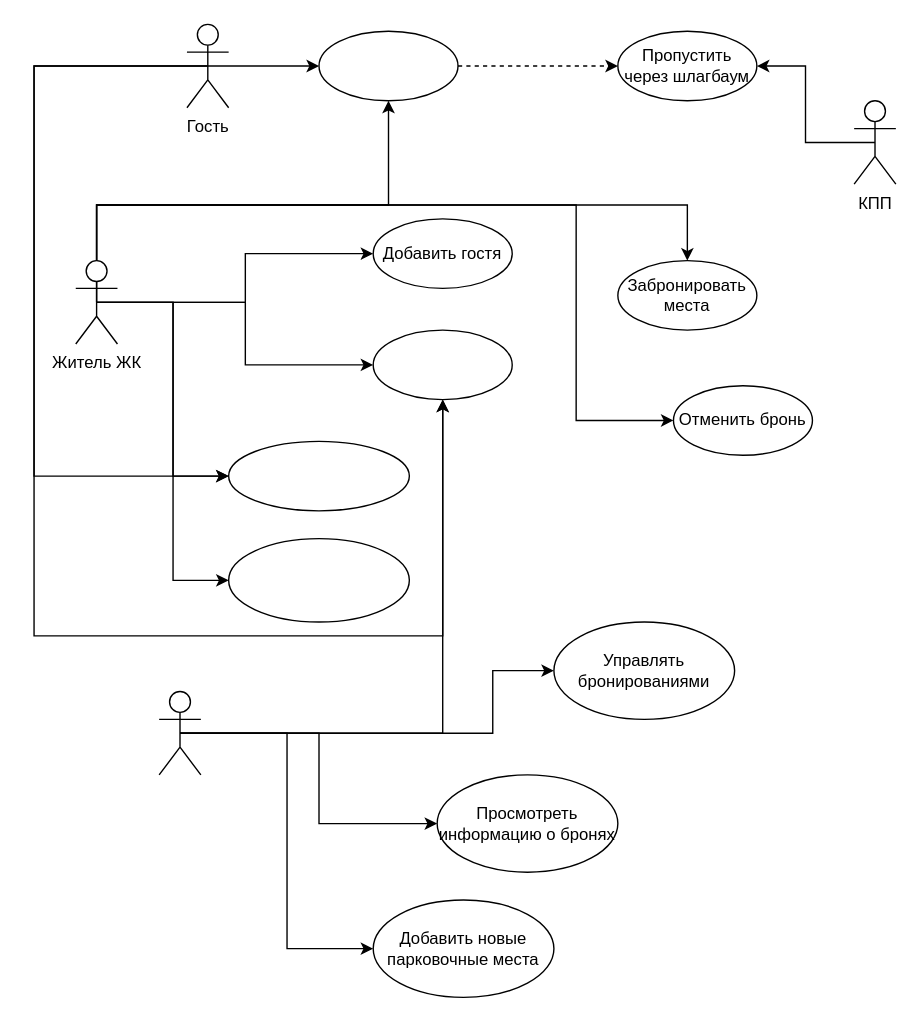
Image size: 920x1022. Some labels were removed from this diagram. Each missing label, with the centre of its shape:
"Админ" belongs at pixel 179 732.
"Войти в аккаунт" belongs at pixel 442 364.
"Зарегистрировать транспорт в системе" belongs at pixel 318 579.
"Зарегистрироваться" belongs at pixel 318 475.
"Проехать через шлагбаум" belongs at pixel 388 65.
